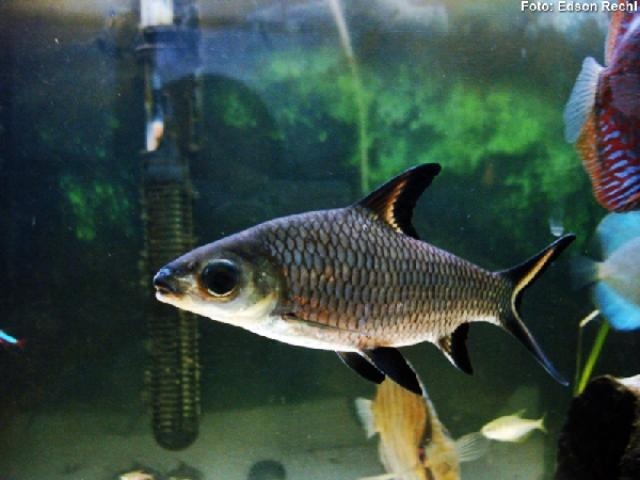Mulut: (126, 247, 204, 325)
Sirip Anal: (426, 313, 486, 385)
Sirip Dada: (262, 294, 371, 350)
Sirip Ekor: (482, 222, 596, 410)
Sirip Perut: (330, 336, 440, 408)
Sirip Punggung: (343, 153, 455, 251)
